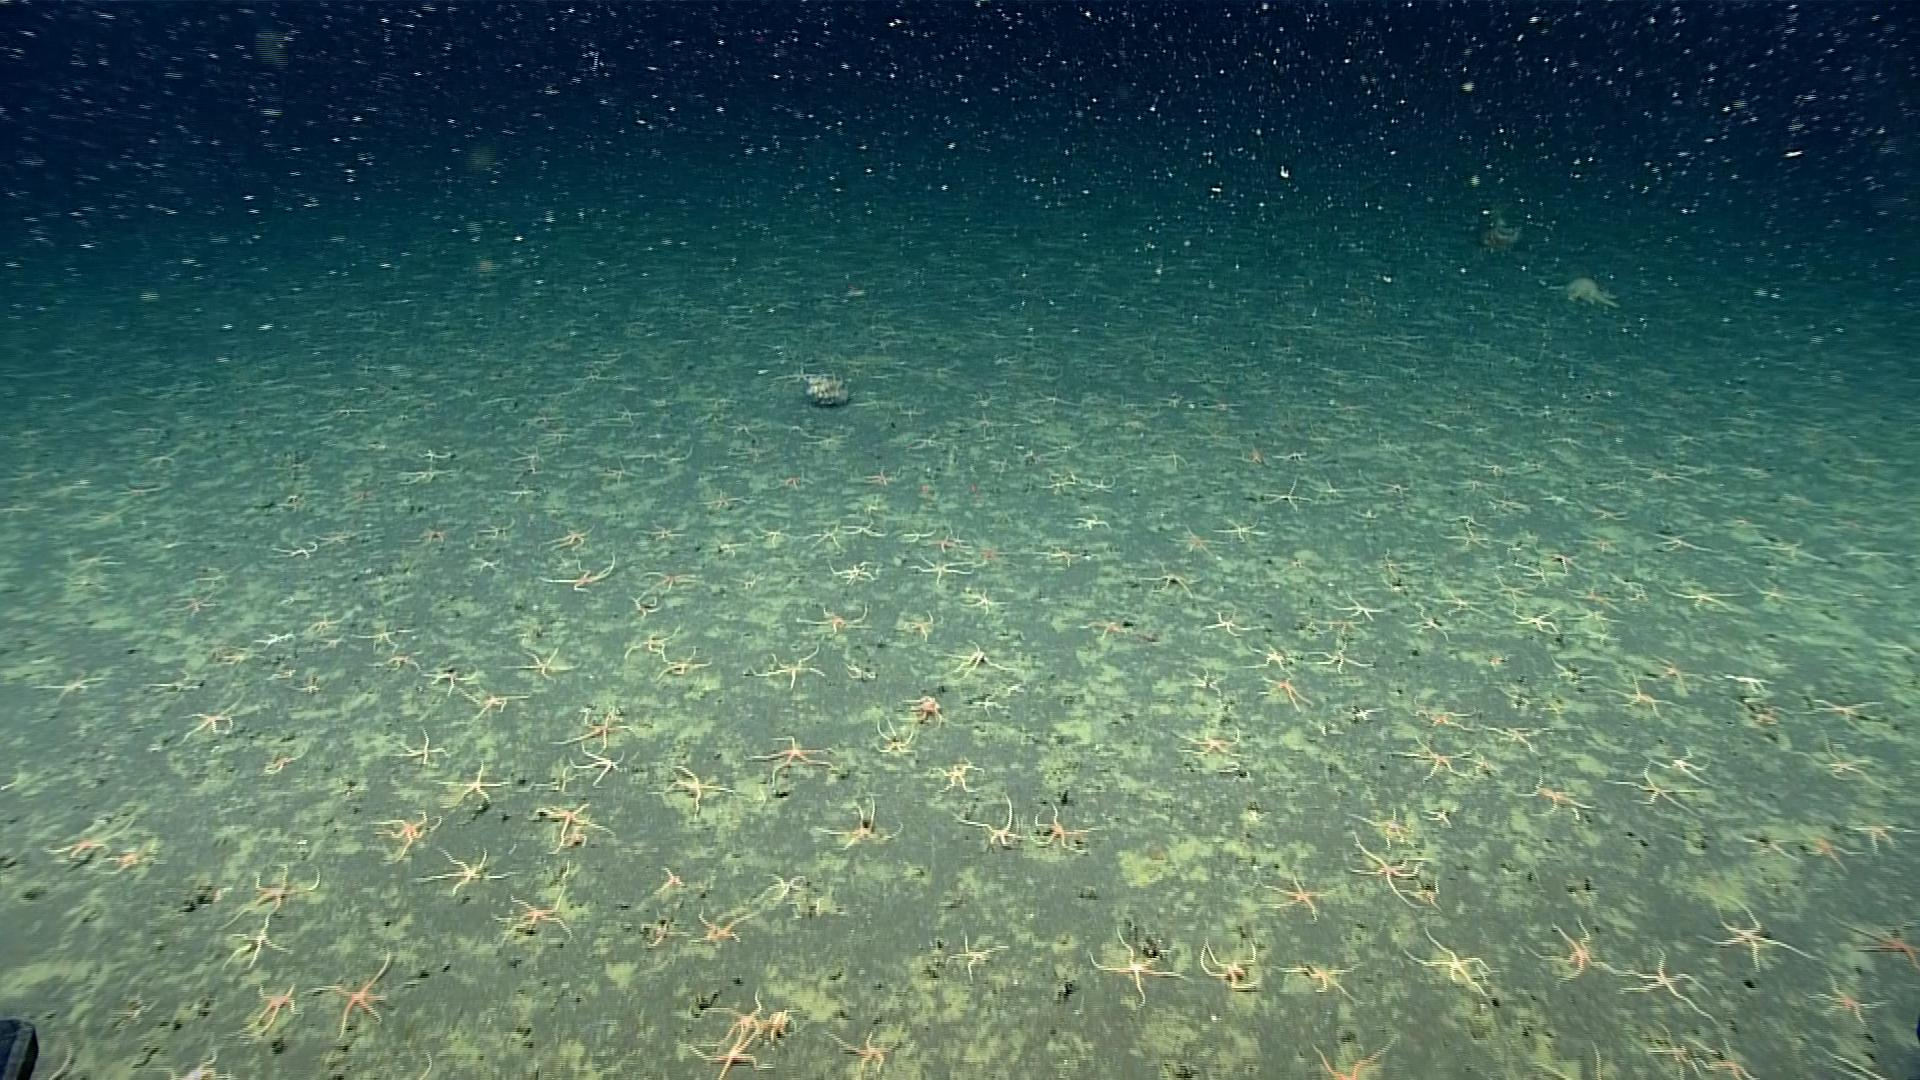brittle_sea_star: (1697, 895, 1820, 968), (1605, 943, 1720, 1017), (1087, 924, 1188, 1006), (298, 953, 393, 1038), (1399, 924, 1498, 1001), (1519, 911, 1621, 978), (1346, 827, 1422, 911), (225, 861, 323, 920), (1805, 964, 1892, 1030), (699, 986, 796, 1044), (1606, 761, 1708, 816), (1824, 911, 1919, 969), (411, 847, 516, 895), (678, 1026, 773, 1079), (530, 798, 615, 853), (823, 799, 905, 856), (741, 735, 839, 782), (219, 913, 295, 972), (231, 976, 301, 1040), (1792, 735, 1876, 787), (651, 762, 740, 812), (42, 819, 132, 868), (497, 633, 576, 687), (1382, 735, 1474, 781), (1275, 956, 1366, 1002), (952, 794, 1027, 849), (1030, 799, 1105, 855), (365, 808, 440, 862), (549, 705, 632, 754), (433, 764, 514, 812), (1199, 934, 1265, 993), (1604, 671, 1680, 721), (1259, 870, 1329, 924), (501, 890, 572, 943), (1515, 774, 1593, 820), (1349, 800, 1423, 848), (537, 551, 618, 593), (823, 1027, 897, 1073), (177, 696, 244, 746), (753, 645, 828, 690), (1299, 1038, 1378, 1079), (943, 934, 1010, 981), (1407, 695, 1482, 737), (1830, 1044, 1919, 1079), (1530, 1040, 1609, 1079), (692, 903, 760, 948), (1172, 724, 1247, 764), (936, 640, 1007, 680), (1656, 744, 1720, 789), (1646, 1025, 1698, 1076), (1700, 1035, 1763, 1077), (796, 604, 874, 638), (568, 748, 629, 791), (1481, 719, 1555, 754), (910, 549, 984, 583), (44, 670, 111, 707), (458, 686, 527, 720), (1399, 605, 1453, 649), (1197, 604, 1266, 638), (353, 617, 419, 653), (1307, 640, 1370, 676), (1142, 562, 1205, 599), (1668, 583, 1749, 612), (1328, 588, 1390, 625), (1429, 583, 1491, 620), (1255, 671, 1313, 709), (636, 564, 712, 593), (1261, 473, 1315, 514), (1809, 694, 1884, 723), (620, 630, 688, 662), (1755, 537, 1826, 567), (750, 868, 812, 902), (390, 728, 447, 765), (418, 663, 477, 698), (166, 1050, 236, 1079), (1170, 524, 1224, 560), (537, 522, 599, 554), (636, 914, 688, 951), (928, 757, 978, 795), (869, 717, 916, 757), (166, 585, 219, 621), (824, 559, 887, 588), (1209, 513, 1265, 545), (1489, 567, 1536, 604), (390, 464, 460, 489), (1440, 520, 1493, 553), (297, 605, 347, 640), (1644, 527, 1708, 554), (657, 658, 716, 686), (633, 514, 687, 545), (1807, 833, 1854, 868), (102, 844, 152, 876), (1749, 580, 1805, 608), (1850, 822, 1912, 847), (1510, 607, 1563, 636), (368, 642, 418, 673), (957, 405, 1005, 436), (1077, 615, 1134, 641), (799, 522, 845, 554), (1516, 558, 1569, 585), (248, 625, 299, 653), (505, 443, 550, 475), (1375, 563, 1415, 599), (957, 584, 1002, 615), (269, 537, 320, 563), (696, 488, 750, 513), (625, 588, 663, 622), (898, 608, 936, 642), (1251, 645, 1298, 673), (593, 459, 642, 484), (1485, 495, 1536, 518), (905, 426, 951, 452), (407, 522, 454, 549), (840, 516, 886, 542), (903, 692, 945, 720), (752, 520, 795, 546), (475, 518, 522, 542), (1584, 624, 1629, 649), (928, 530, 969, 555), (1072, 509, 1113, 534), (775, 465, 814, 492), (212, 645, 255, 669), (654, 864, 688, 891), (1576, 605, 1623, 625), (1369, 475, 1408, 498), (1039, 545, 1083, 566), (1035, 469, 1075, 492), (862, 464, 899, 488), (1080, 475, 1118, 497), (468, 554, 504, 576), (899, 526, 936, 546), (986, 452, 1015, 477), (1582, 534, 1623, 551), (893, 402, 927, 421)
